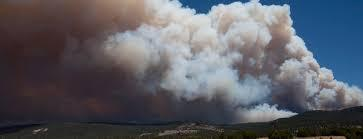smoke: (1, 1, 361, 118)
